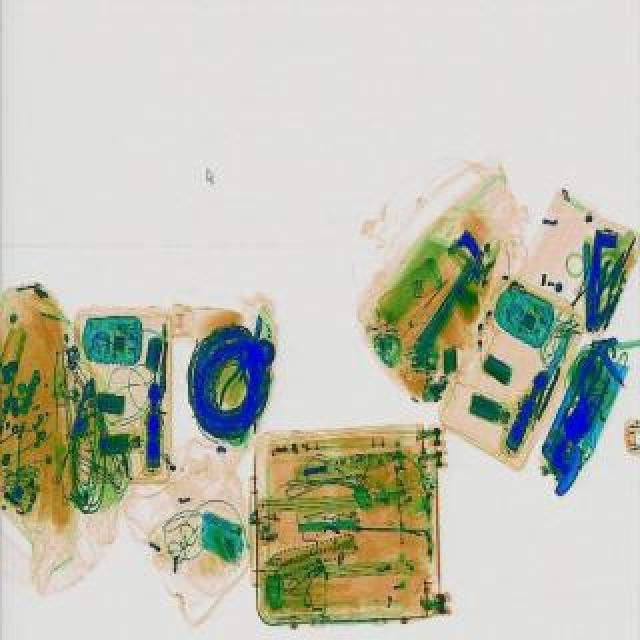wrench: (570, 344, 610, 420), (218, 344, 262, 412)
